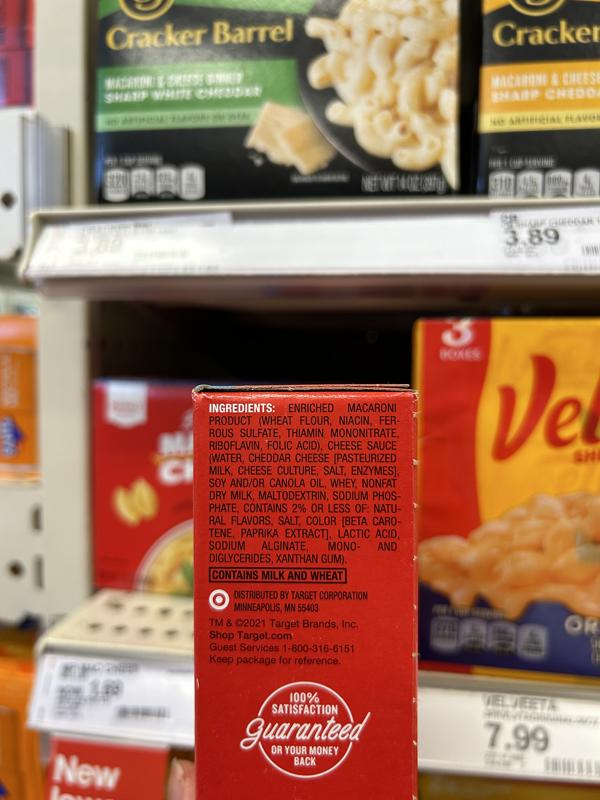ingredients: (206, 402, 400, 565)
